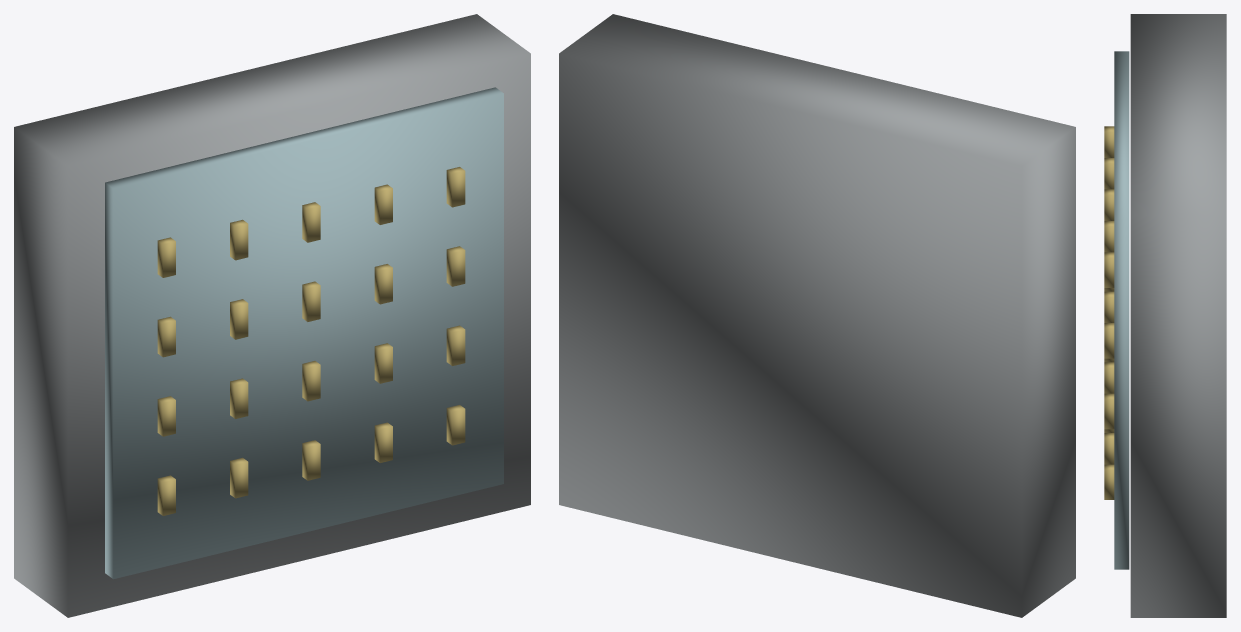
Rendered from wall_key_cabinet__wide.glb.
3 views of the same model, side by side, from view 1: azimuth 30°, elevation 25°; view 2: azimuth 150°, elevation 25°; view 3: azimuth 270°, elevation 25° (orthographic). The views are drawn at different scales.
Visible parts, largest first — view 1: world; view 2: world; view 3: world.
Part boxes in pixels (left/top/right/bottom): world: left=14, top=14, right=530, bottom=617; world: left=559, top=14, right=1075, bottom=617; world: left=1104, top=14, right=1226, bottom=617.
Bounding box in the file's own units: 0.7936 × 0.74 × 0.204.
